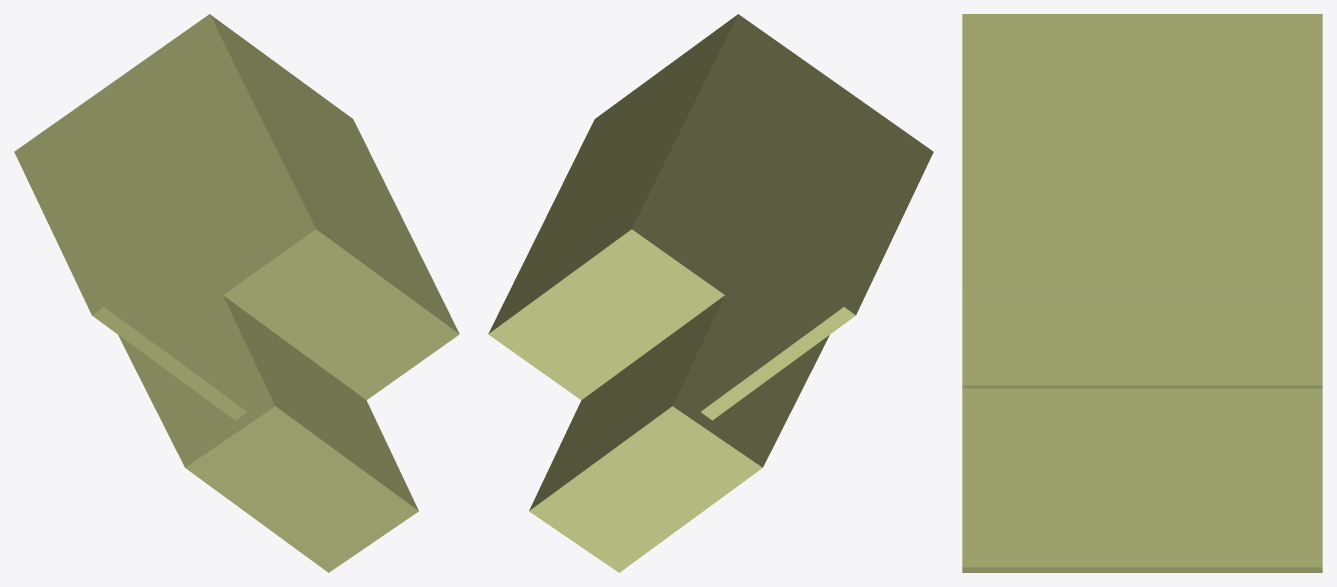
3 renders of one model, left to right at view 1: azimuth 30°, elevation 25°; view 2: azimuth 150°, elevation 25°; view 3: azimuth 270°, elevation 25°, orthographic. The views are drawn at different scales.
Parts seen in each view (by area): view 1: 0_2_2_0_3_3_3_2_0; view 2: 0_2_2_0_3_3_3_2_0; view 3: 0_2_2_0_3_3_3_2_0.
Part boxes in pixels (x1,y1,x2,y2): 0_2_2_0_3_3_3_2_0: [14, 14, 459, 572]; 0_2_2_0_3_3_3_2_0: [488, 14, 933, 572]; 0_2_2_0_3_3_3_2_0: [962, 14, 1322, 572].
Bounding box in the file's own units: 10.92 × 15.48 × 9.
